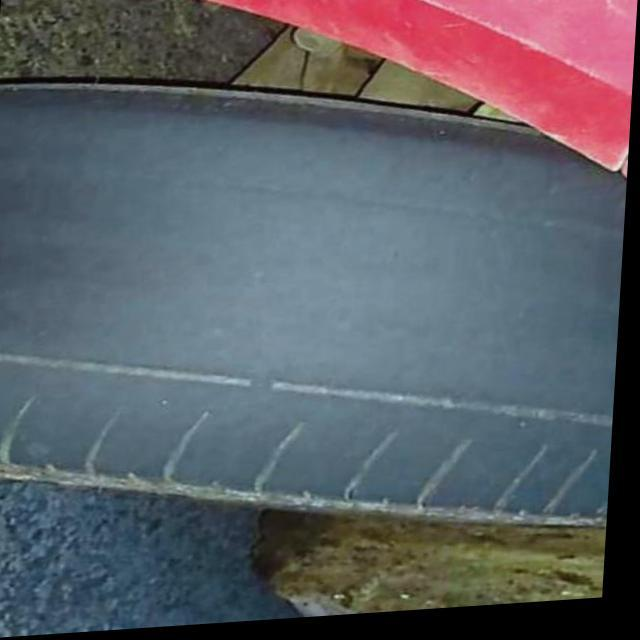Flat spots: (0, 170, 618, 399)
